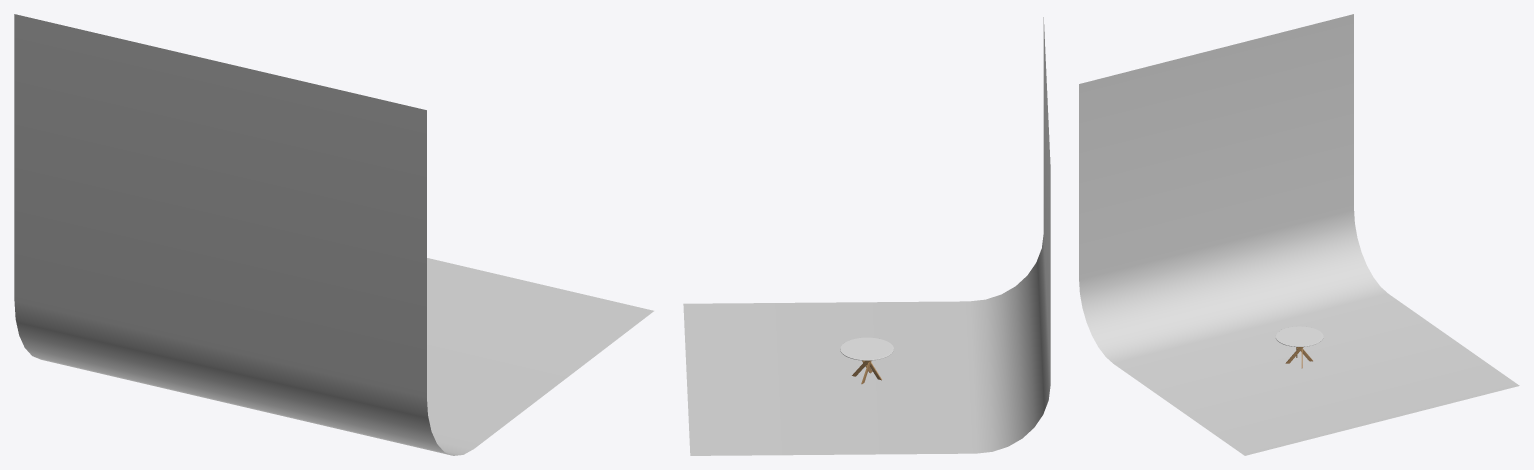
File: uploads_files_6535352_Round_table.fbx
The picture shows the model from 3 angles, left to right: view 1: azimuth 30°, elevation 25°; view 2: azimuth 150°, elevation 25°; view 3: azimuth 270°, elevation 25°; orthographic projection. The views are drawn at different scales.
Parts seen in each view (by area): view 1: Studio; view 2: Studio, Circle; view 3: Studio, Circle.
Boxes of the visible parts, bbox=[...] form: Studio: bbox=[14, 14, 653, 455]; Studio: bbox=[683, 17, 1050, 455]; Circle: bbox=[840, 337, 893, 360]; Studio: bbox=[1079, 14, 1519, 455]; Circle: bbox=[1275, 326, 1323, 346].
Size of the model in its own units: 1098 by 703 by 1098.
Materials: 5 (1 with a texture image).
